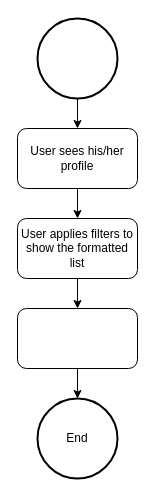
Image size: 155x496. Some labels were removed from this diagram. The box of each missing label's shape, as (x1, y1, x2, y2) in pixels:
Start: (36, 17, 118, 99)
User sees payment history: (16, 308, 138, 368)
